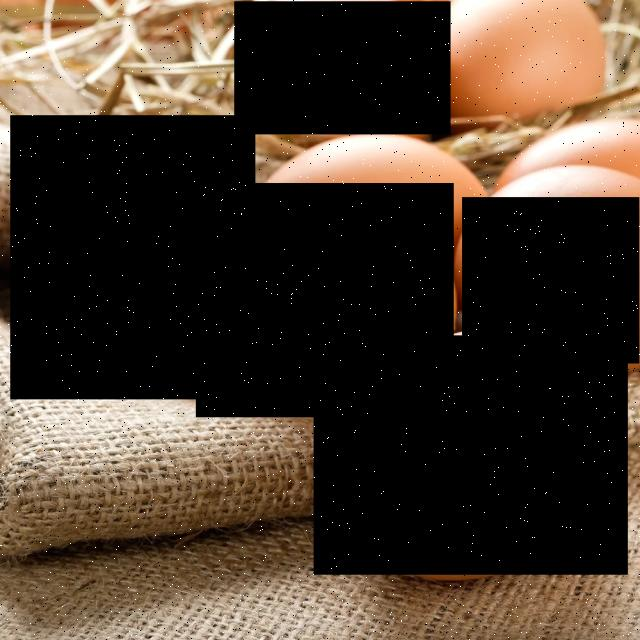Egg: (314, 335, 628, 575), (11, 116, 256, 400), (196, 183, 454, 417), (462, 197, 640, 364), (234, 1, 450, 134)
